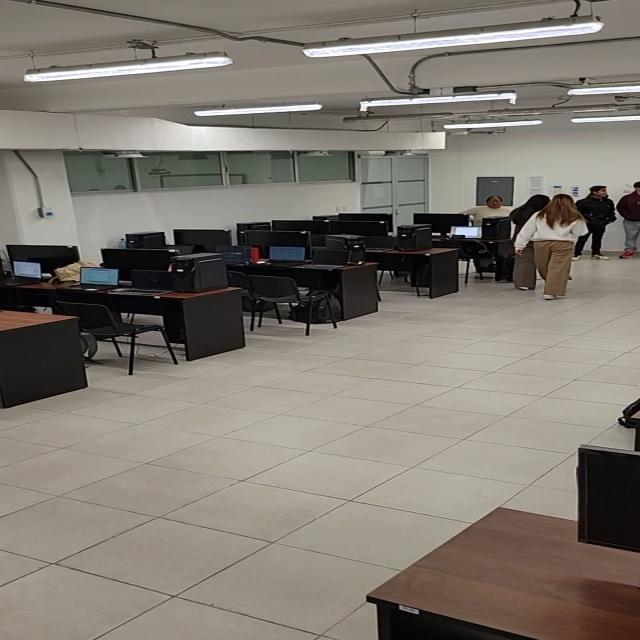Persona: (536, 190, 580, 301), (508, 189, 540, 287), (578, 184, 616, 262), (620, 182, 640, 264)
